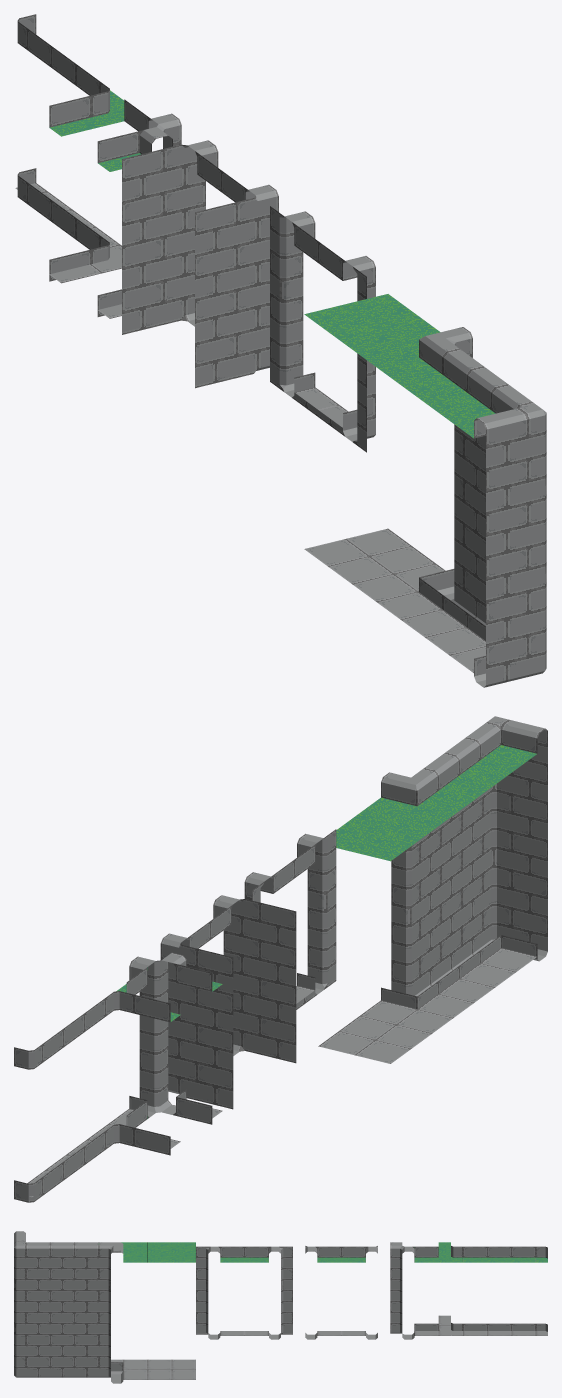
File: grass_brick_tiles.glb
3 renders of one model, top to bottom at view 1: azimuth 30°, elevation 25°; view 2: azimuth 150°, elevation 25°; view 3: azimuth 270°, elevation 25°, orthographic. The views are drawn at different scales.
Visible parts, largest first — view 1: LE_IR-col, LE_IL-col, V_LE-col, I_LEL-col, I_LER-col, LE_V-col, LE_LE-col, I_V-col, LF_V-col, V_I-col, V_F-col, F_V-col (+12 smaller); view 2: LE_V-col, LE_LE-col, LE_IL-col, I_V-col, LF_V-col, I_LER-col, I_LEL-col, LE_IR-col, V_LE-col, LF_LE-col, V_LF-col, I_I-col (+12 smaller); view 3: V_I-col, I_I-col, I_V-col, V_LE-col, LE_LE-col, LE_V-col, LF_V-col, V_LF-col, LE_LF-col, I_LFL-col, I_LFR-col, V_F-col (+11 smaller).
Boxes of the visible parts, x1=… form: LE_IR-col: x1=122, y1=140, x2=221, y2=246; LE_IL-col: x1=195, y1=170, x2=278, y2=300; V_LE-col: x1=450, y1=384, x2=546, y2=513; I_LEL-col: x1=195, y1=282, x2=269, y2=388; I_LER-col: x1=122, y1=229, x2=194, y2=334; LE_V-col: x1=450, y1=585, x2=546, y2=687; LE_LE-col: x1=486, y1=497, x2=546, y2=601; I_V-col: x1=401, y1=524, x2=485, y2=655; LF_V-col: x1=353, y1=517, x2=464, y2=619; V_I-col: x1=401, y1=349, x2=508, y2=451; V_F-col: x1=304, y1=294, x2=435, y2=349; F_V-col: x1=304, y1=528, x2=435, y2=584; LE_V-col: x1=462, y1=867, x2=547, y2=971; LE_LE-col: x1=462, y1=790, x2=547, y2=888; LE_IL-col: x1=210, y1=895, x2=296, y2=987; I_V-col: x1=420, y1=889, x2=515, y2=1002; LF_V-col: x1=360, y1=920, x2=473, y2=1033; I_LER-col: x1=168, y1=1019, x2=233, y2=1109; I_LEL-col: x1=233, y1=972, x2=296, y2=1063; LE_IR-col: x1=160, y1=921, x2=233, y2=1033; V_LE-col: x1=462, y1=716, x2=547, y2=812; LF_LE-col: x1=108, y1=1028, x2=222, y2=1127; V_LF-col: x1=360, y1=768, x2=473, y2=850; I_I-col: x1=420, y1=813, x2=461, y2=919; V_I-col: x1=50, y1=1242, x2=98, y2=1290; I_I-col: x1=50, y1=1290, x2=98, y2=1334; I_V-col: x1=50, y1=1334, x2=98, y2=1377; V_LE-col: x1=14, y1=1231, x2=50, y2=1290; LE_LE-col: x1=14, y1=1290, x2=50, y2=1334; LE_V-col: x1=14, y1=1334, x2=50, y2=1377; LF_V-col: x1=99, y1=1334, x2=147, y2=1383; V_LF-col: x1=99, y1=1242, x2=147, y2=1291; LE_LF-col: x1=390, y1=1242, x2=438, y2=1291; I_LFL-col: x1=196, y1=1246, x2=244, y2=1291; I_LFR-col: x1=244, y1=1246, x2=292, y2=1291; V_F-col: x1=147, y1=1242, x2=195, y2=1262.
Bounding box in the file's own units: 2 × 6 × 22.
1 material, 1 textured.
